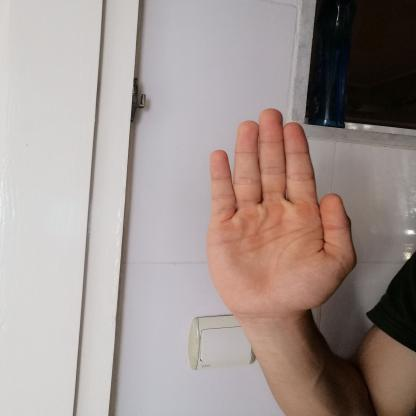SEEN: (190, 100, 368, 327)
